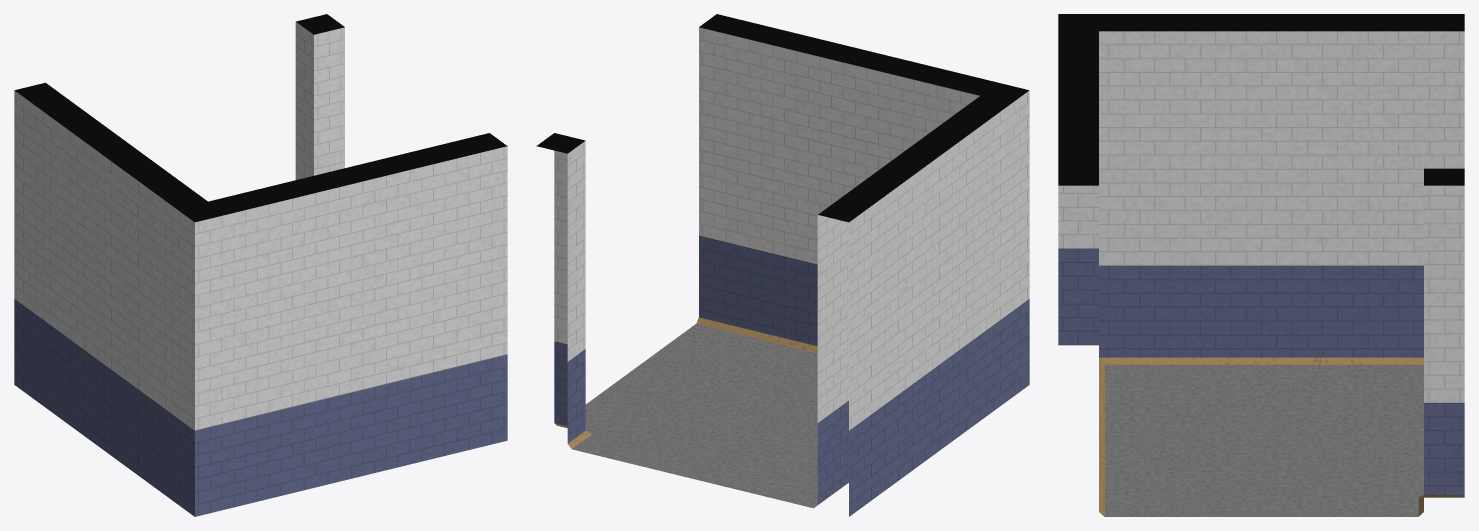
The model's file is corner.glb.
3 renders of one model, left to right at view 1: azimuth 30°, elevation 25°; view 2: azimuth 150°, elevation 25°; view 3: azimuth 270°, elevation 25°, orthographic. The views are drawn at different scales.
Parts seen in each view (by area): view 1: hallwayTCrossing.003; view 2: hallwayTCrossing.003; view 3: hallwayTCrossing.003.
Part boxes in pixels (bbox=[...]): hallwayTCrossing.003: bbox=[14, 14, 507, 516]; hallwayTCrossing.003: bbox=[536, 14, 1029, 516]; hallwayTCrossing.003: bbox=[1058, 14, 1464, 516].
Size of the model in its own units: 10 by 9 by 10.
Materials: 1 (1 with a texture image).
